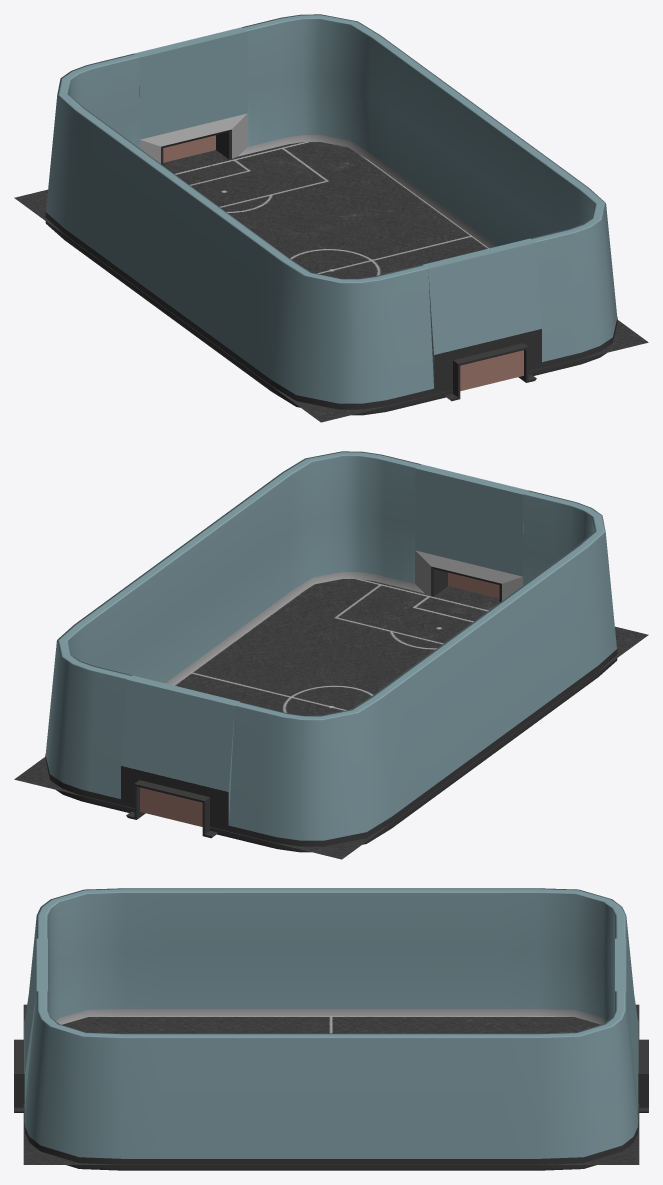
Rendered from saha4.fbx.
3 views of the same model, one above another, from view 1: azimuth 30°, elevation 25°; view 2: azimuth 150°, elevation 25°; view 3: azimuth 270°, elevation 25° (orthographic).
Visible parts, largest first — view 1: kenr_srf34, pPlane14, pCube2, pCube1; view 2: kenr_srf34, pPlane14, pCube1, pCube2; view 3: kenr_srf34, pPlane14.
Boxes of the visible parts, bbox=[...] form: kenr_srf34: bbox=[45, 14, 617, 415]; pPlane14: bbox=[14, 142, 648, 422]; pCube2: bbox=[460, 350, 523, 390]; pCube1: bbox=[163, 135, 215, 162]; kenr_srf34: bbox=[45, 451, 617, 852]; pPlane14: bbox=[14, 579, 648, 859]; pCube1: bbox=[140, 787, 202, 826]; pCube2: bbox=[448, 572, 499, 598]; kenr_srf34: bbox=[14, 888, 648, 1170]; pPlane14: bbox=[23, 1004, 639, 1164].
Bounding box in the file's own units: 35491 × 13149 × 59378.
